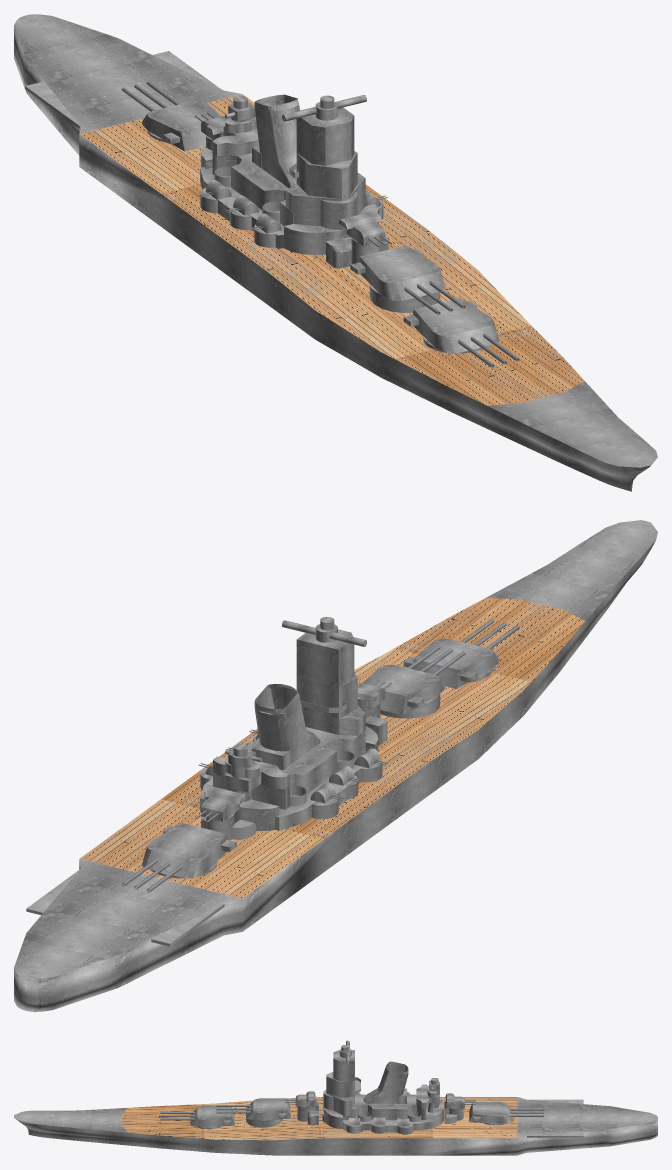
The model's file is Yamato.fbx.
3 views of the same model, one above another, from view 1: azimuth 30°, elevation 25°; view 2: azimuth 150°, elevation 25°; view 3: azimuth 270°, elevation 25° (orthographic). The views are drawn at different scales.
Parts seen in each view (by area): view 1: pCube33; view 2: pCube33; view 3: pCube33.
Part boxes in pixels (bbox=[...]): pCube33: bbox=[14, 14, 657, 491]; pCube33: bbox=[14, 520, 657, 1011]; pCube33: bbox=[14, 1040, 657, 1155].
Size of the model in its own units: 4 by 3.98 by 26.3.
Materials: 4 (3 with a texture image).
